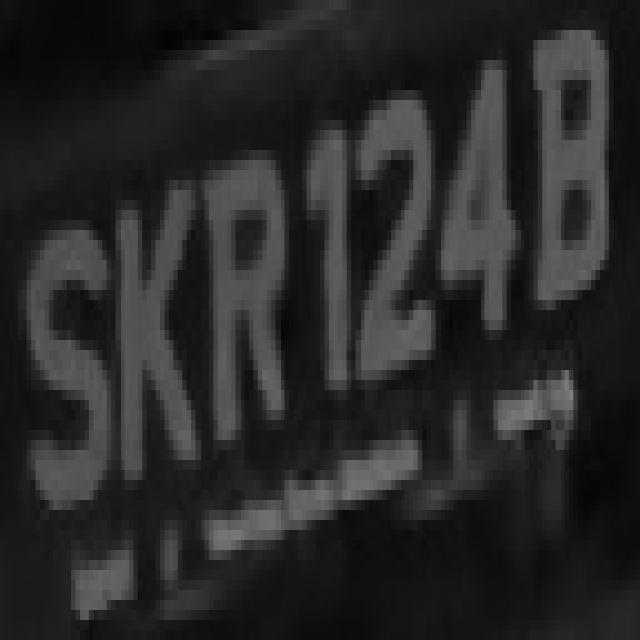1: (294, 110, 364, 460)
2: (351, 100, 445, 420)
4: (436, 60, 520, 380)
B: (524, 60, 622, 330)
K: (116, 170, 200, 540)
R: (191, 150, 298, 460)
S: (13, 200, 129, 550)
